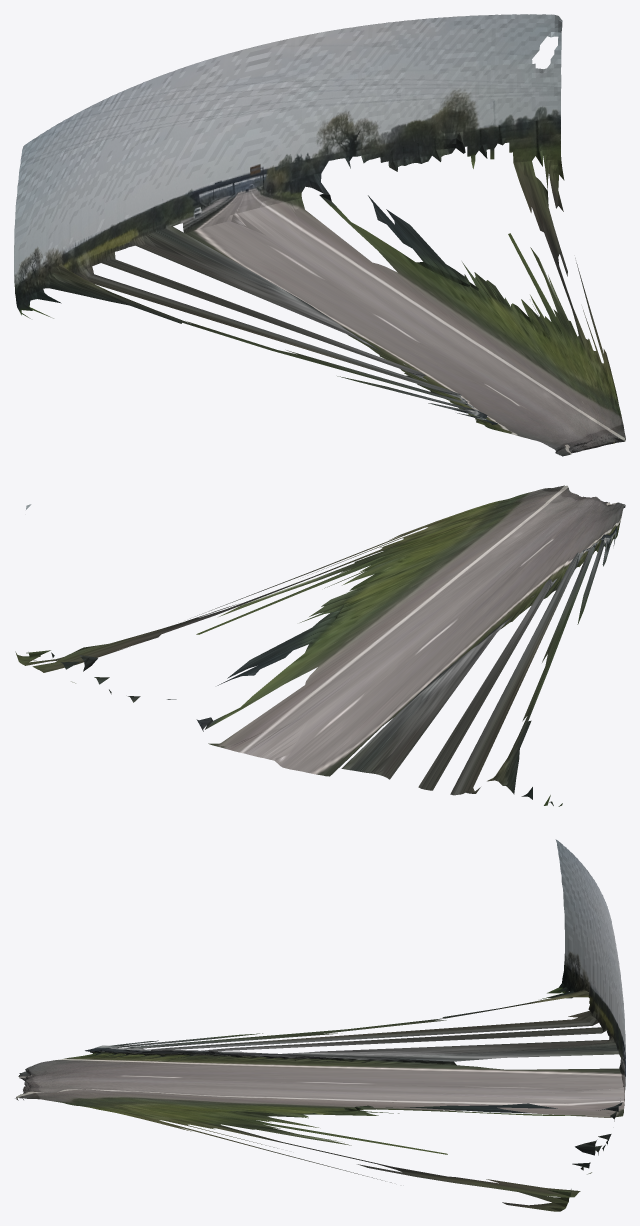
3 renders of one model, top to bottom at view 1: azimuth 30°, elevation 25°; view 2: azimuth 150°, elevation 25°; view 3: azimuth 270°, elevation 25°, orthographic. The views are drawn at different scales.
Visible parts, largest first — view 1: defaultobject; view 2: defaultobject; view 3: defaultobject.
Boxes of the visible parts, x1,y1,x2,y2 form: defaultobject: [14, 14, 625, 456]; defaultobject: [15, 485, 625, 806]; defaultobject: [15, 839, 625, 1211].
Size of the model in its own units: 41.16 by 13.21 by 44.8.
Materials: 1 (1 with a texture image).
